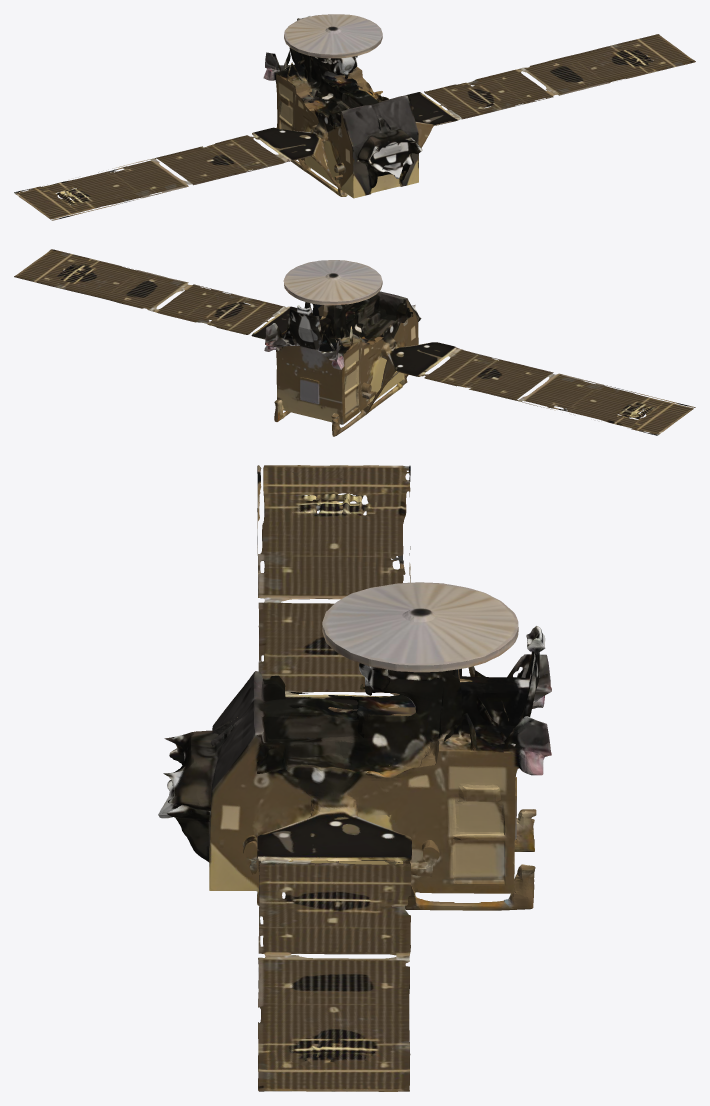
File: exomars.glb
3 renders of one model, top to bottom at view 1: azimuth 30°, elevation 25°; view 2: azimuth 150°, elevation 25°; view 3: azimuth 270°, elevation 25°, orthographic. The views are drawn at different scales.
Visible parts, largest first — view 1: tripo_node_fd9bbaf7-fb6d-43b1-90cc-424beec19bd5; view 2: tripo_node_fd9bbaf7-fb6d-43b1-90cc-424beec19bd5; view 3: tripo_node_fd9bbaf7-fb6d-43b1-90cc-424beec19bd5.
Part boxes in pixels (<box>): tripo_node_fd9bbaf7-fb6d-43b1-90cc-424beec19bd5: <box>14,14,695,220</box>; tripo_node_fd9bbaf7-fb6d-43b1-90cc-424beec19bd5: <box>14,249,695,436</box>; tripo_node_fd9bbaf7-fb6d-43b1-90cc-424beec19bd5: <box>158,465,551,1091</box>.
Bounding box in the file's own units: 1 × 0.1989 × 0.2649.
1 material, 1 textured.
